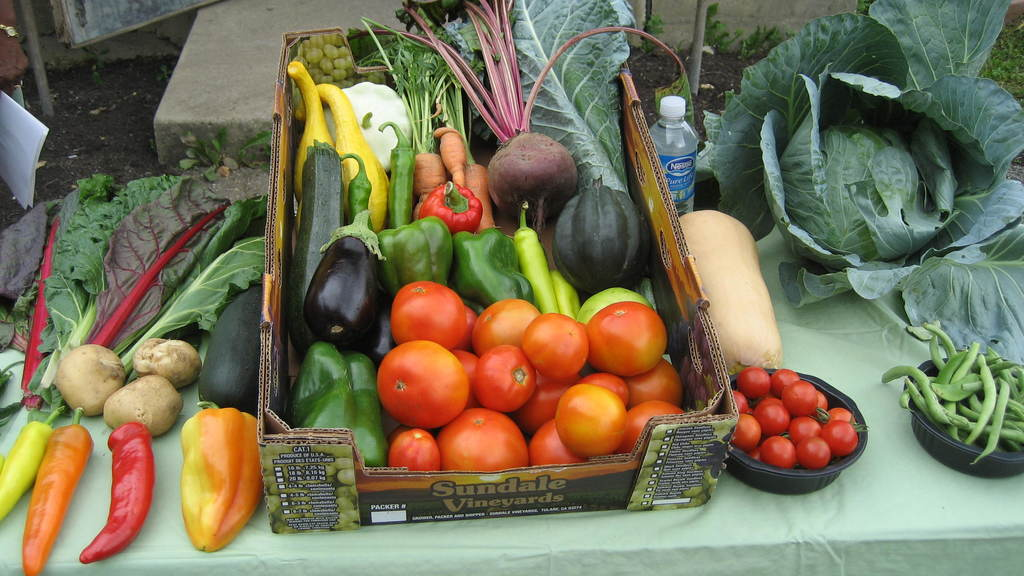Tomato: (380, 281, 685, 475), (728, 365, 859, 471)
